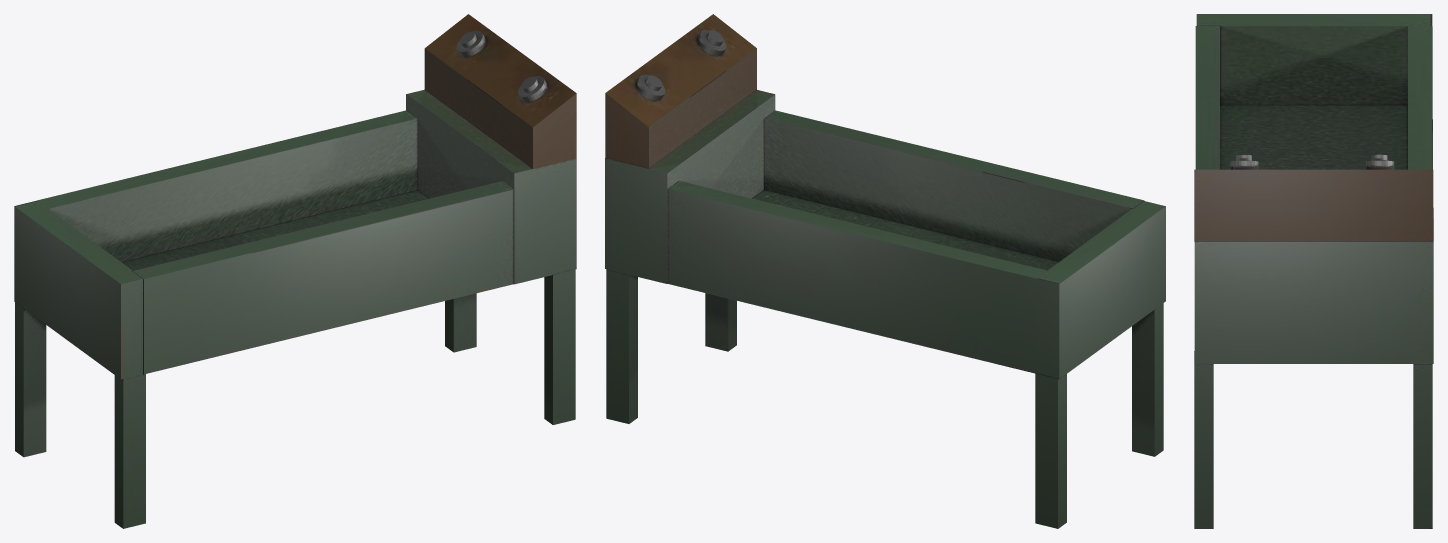
Rendered from deepfryer2.dae.
The picture shows the model from 3 angles, left to right: view 1: azimuth 30°, elevation 25°; view 2: azimuth 150°, elevation 25°; view 3: azimuth 270°, elevation 25°; orthographic projection. The views are drawn at different scales.
Visible parts, largest first — view 1: Cylinder_001; view 2: Cylinder_001; view 3: Cylinder_001.
Boxes of the visible parts, x1,y1,x2,y2 form: Cylinder_001: (14, 14, 576, 528); Cylinder_001: (605, 14, 1165, 528); Cylinder_001: (1194, 14, 1433, 528).
Size of the model in its own units: 3.49 by 1.44 by 2.42.
Materials: 1 (1 with a texture image).
